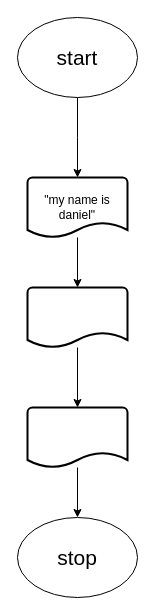
Image size: 155x615. Some labels were removed from this diagram. The centre of each missing label's shape, as x and y in pixels:
"I live in Ashkelon": (77,317)
"I love to play football": (77,437)
